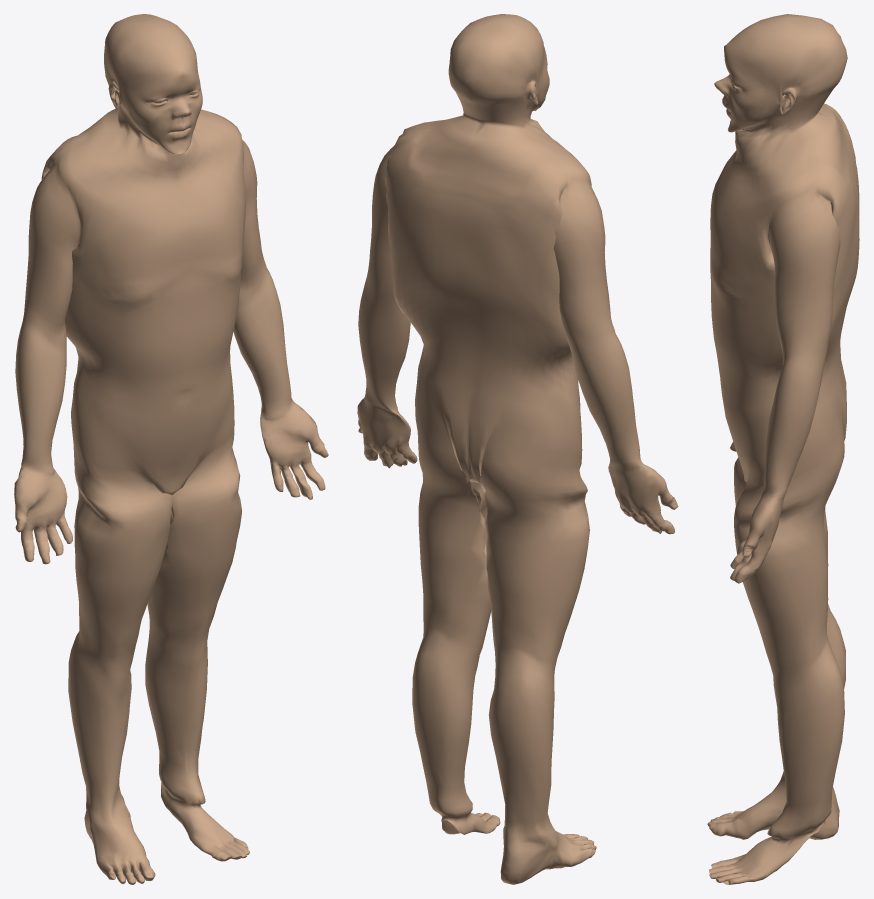
File: skin-candidate-f1c7.glb
3 renders of one model, left to right at view 1: azimuth 30°, elevation 25°; view 2: azimuth 150°, elevation 25°; view 3: azimuth 270°, elevation 25°, orthographic. The views are drawn at different scales.
Parts seen in each view (by area): view 1: MakeHuman_AT10_skin_fit_candidate_f1c7; view 2: MakeHuman_AT10_skin_fit_candidate_f1c7; view 3: MakeHuman_AT10_skin_fit_candidate_f1c7.
Part boxes in pixels (<box>): MakeHuman_AT10_skin_fit_candidate_f1c7: <box>14,14,328,884</box>; MakeHuman_AT10_skin_fit_candidate_f1c7: <box>357,14,678,884</box>; MakeHuman_AT10_skin_fit_candidate_f1c7: <box>707,14,859,884</box>.
Bounding box in the file's own units: 0.6758 × 1.71 × 0.2826.
